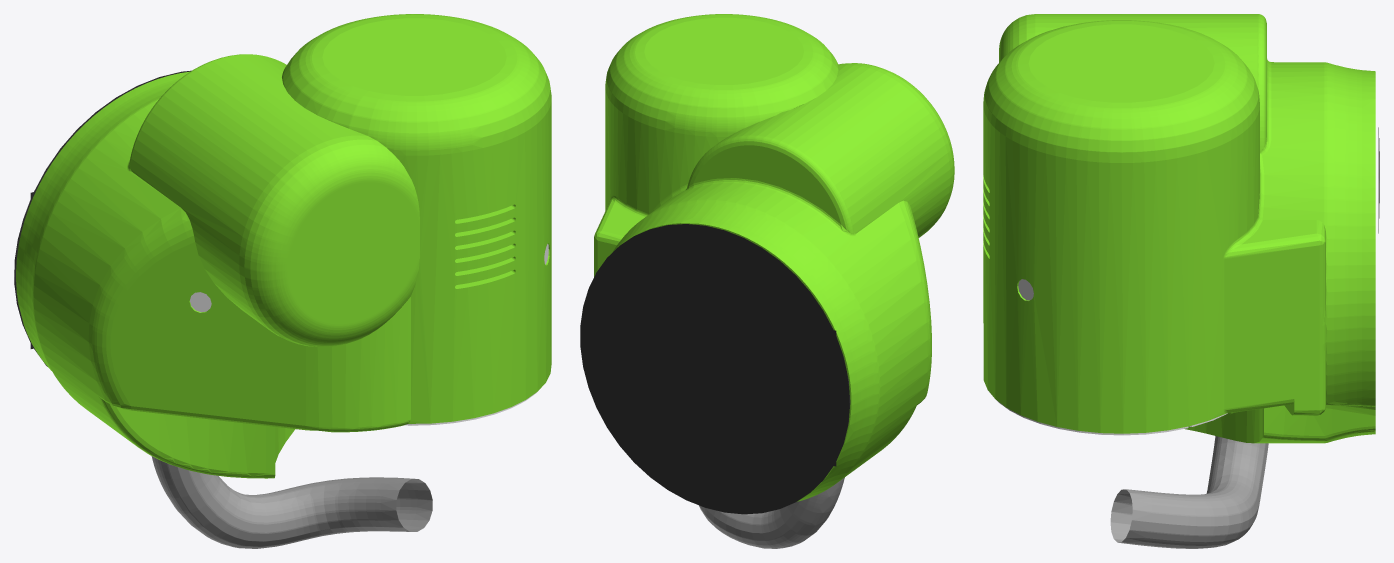
The picture shows the model from 3 angles, left to right: view 1: azimuth 30°, elevation 25°; view 2: azimuth 150°, elevation 25°; view 3: azimuth 270°, elevation 25°; orthographic projection. The views are drawn at different scales.
Visible parts, largest first — view 1: node; view 2: node; view 3: node.
Part boxes in pixels (<box>): node: <box>14,14,551,548</box>; node: <box>580,14,954,548</box>; node: <box>983,14,1379,548</box>.
Size of the model in its own units: 512 by 620 by 437.
